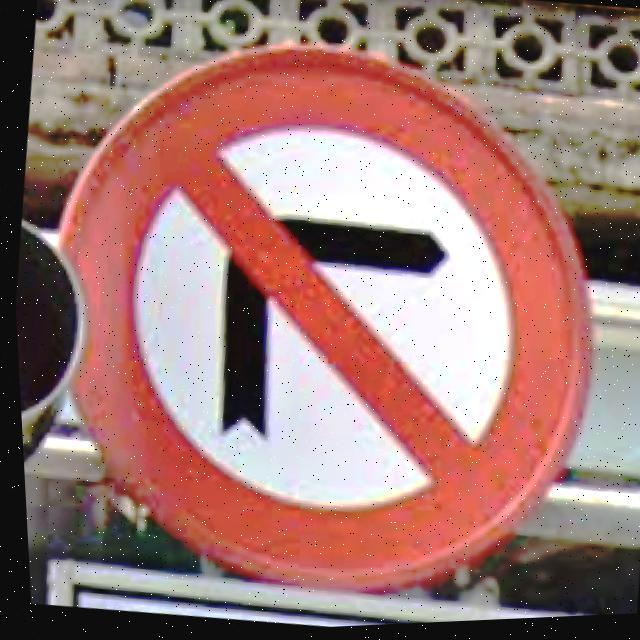noturnright: (50, 46, 590, 602)
